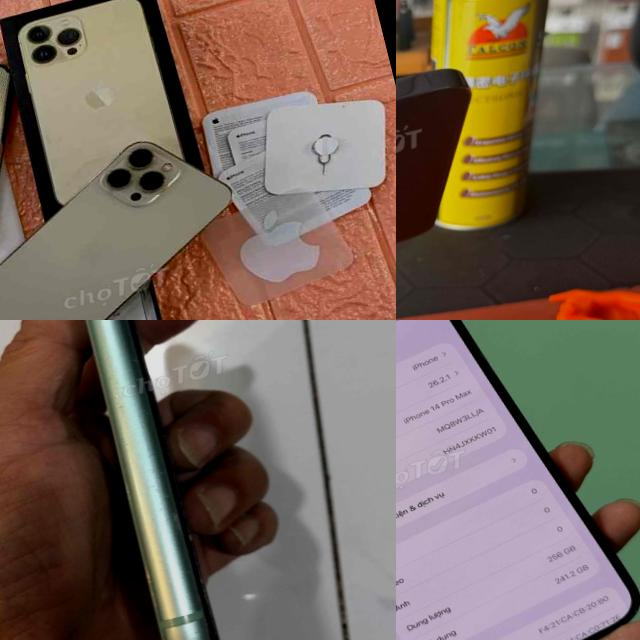gen_11: (85, 320, 219, 640)
gen_12_13: (0, 119, 266, 320)
gen_14: (396, 320, 640, 640), (396, 55, 514, 320)
scratch: (124, 460, 194, 576), (100, 368, 142, 437), (171, 620, 220, 640), (128, 354, 150, 376)
